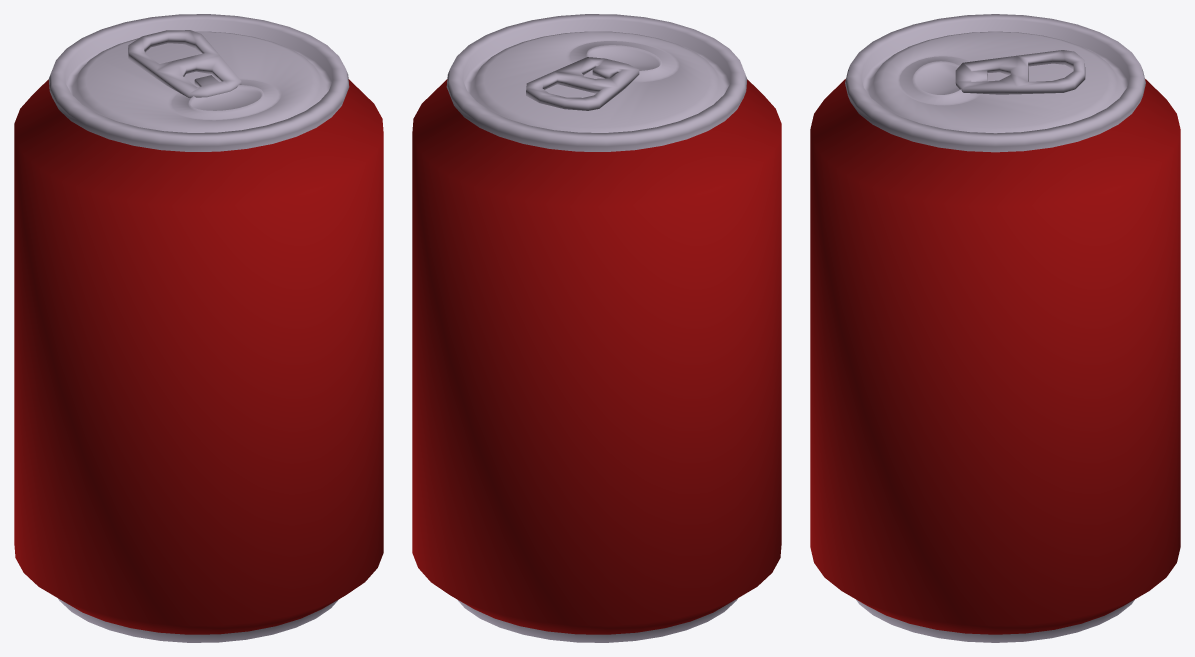
File: Can.fbx
3 renders of one model, left to right at view 1: azimuth 30°, elevation 25°; view 2: azimuth 150°, elevation 25°; view 3: azimuth 270°, elevation 25°, orthographic.
Parts seen in each view (by area): view 1: Msh_Can; view 2: Msh_Can; view 3: Msh_Can.
Part boxes in pixels (x1,y1,x2,y2): Msh_Can: [14, 14, 383, 642]; Msh_Can: [412, 14, 781, 642]; Msh_Can: [810, 14, 1180, 642].
Bounding box in the file's own units: 69.07 × 106 × 69.07.
